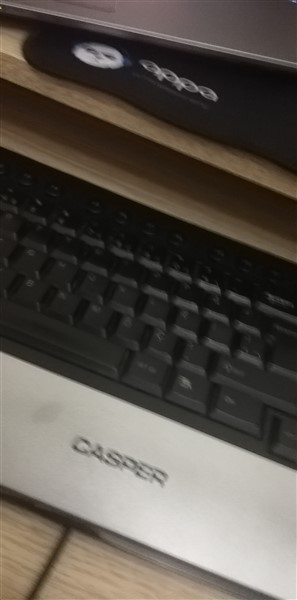klavye: (2, 142, 297, 576)
